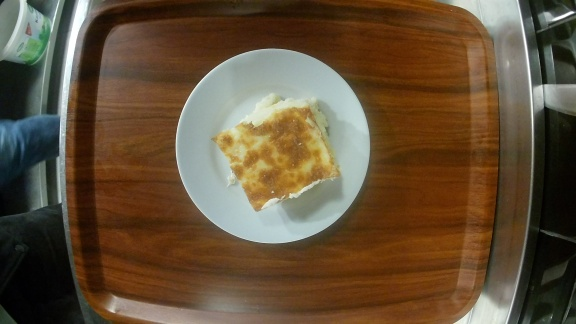firinmakarna: (173, 46, 372, 246)
